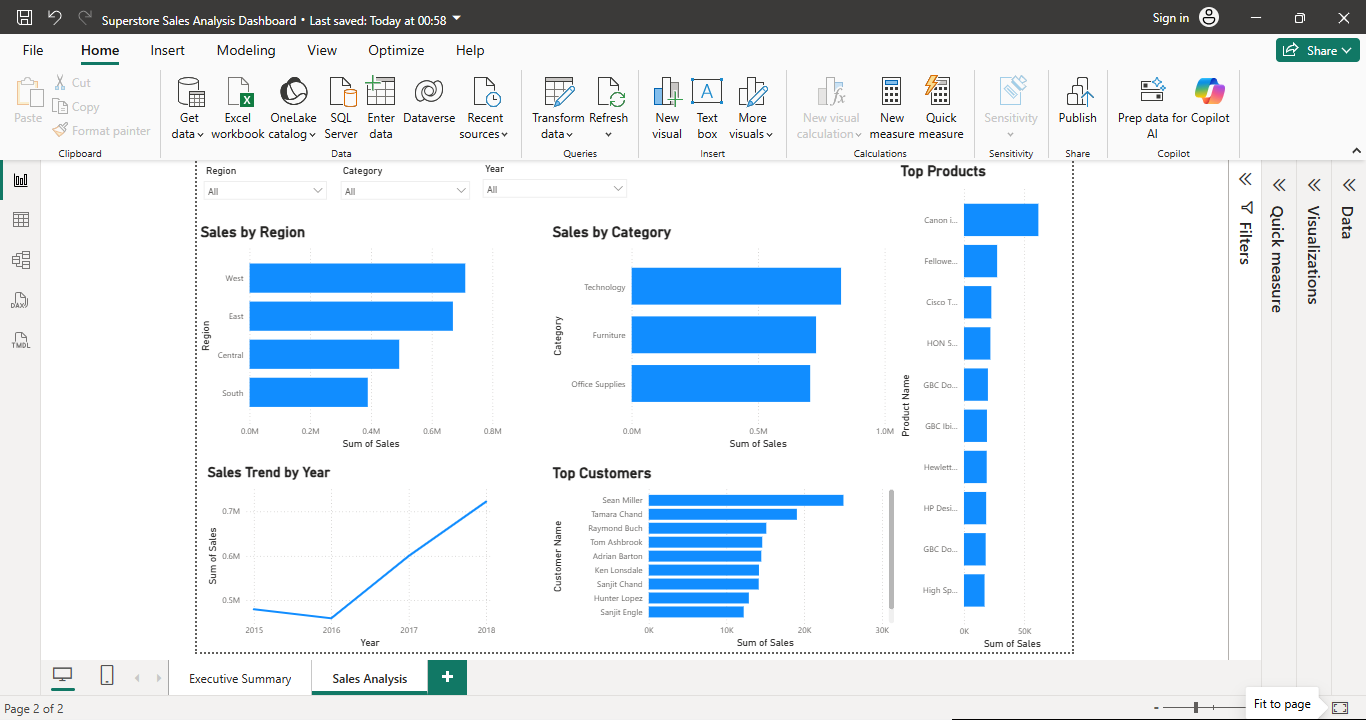

The page's visual inventory and layout, read from the dashboard file:
{"tool":"powerbi","page":{"name":"Sales Analysis","canvas":[1280,720],"ordinal":1},"visuals":[{"type":"clusteredBarChart","title":"Sales by Region","fields":{"Category":["CleanData superstore_sales csv.Region"],"Y":["Sum(CleanData superstore_sales csv.Sales)"]},"box":[0,92.6,451.5,335.3],"z":0},{"type":"clusteredBarChart","title":"Sales by Category","fields":{"Category":["CleanData superstore_sales csv.Category"],"Y":["Sum(CleanData superstore_sales csv.Sales)"]},"box":[514.7,92.6,510.3,335.3],"z":1000},{"type":"lineChart","title":"Sales Trend by Year","fields":{"Category":["CleanData superstore_sales csv.Order Date.Variation.Date Hierarchy.Year"],"Y":["Sum(CleanData superstore_sales csv.Sales)"]},"box":[10.3,445.6,430.9,275],"z":2000},{"type":"clusteredBarChart","title":"Top Customers","fields":{"Category":["CleanData superstore_sales csv.Customer Name"],"Y":["Sum(CleanData superstore_sales csv.Sales)"]},"box":[514.7,445.6,510.3,275],"z":3000},{"type":"clusteredBarChart","title":"Top Products","fields":{"Category":["CleanData superstore_sales csv.Product Name"],"Y":["Sum(CleanData superstore_sales csv.Sales)"]},"box":[1025,2.9,254.4,717.6],"z":4000},{"type":"slicer","fields":{"Values":["CleanData superstore_sales csv.Region"]},"box":[0,2.9,200,70.6],"z":5000},{"type":"slicer","fields":{"Values":["CleanData superstore_sales csv.Category"]},"box":[200,2.9,208.8,70.6],"z":6000},{"type":"slicer","fields":{"Values":["CleanData superstore_sales csv.Order Date.Variation.Date Hierarchy.Year"]},"box":[408.8,0,230.9,73.5],"z":7000}]}

Visuals, with their boxes on the page's 1280x720 design canvas (x1, y1, x2, y2). These are canvas units, not pixel positions in the 1366x720 screenshot, which may show the page scaled, cropped or inside an application window:
"Sales by Region" clusteredBarChart: BBox(0, 93, 452, 428)
"Sales by Category" clusteredBarChart: BBox(515, 93, 1025, 428)
"Sales Trend by Year" lineChart: BBox(10, 446, 441, 721)
"Top Customers" clusteredBarChart: BBox(515, 446, 1025, 721)
"Top Products" clusteredBarChart: BBox(1025, 3, 1279, 720)
slicer - CleanData superstore_sales csv.Region: BBox(0, 3, 200, 74)
slicer - CleanData superstore_sales csv.Category: BBox(200, 3, 409, 74)
slicer - CleanData superstore_sales csv.Order Date.Variation.Date Hierarchy.Year: BBox(409, 0, 640, 74)
